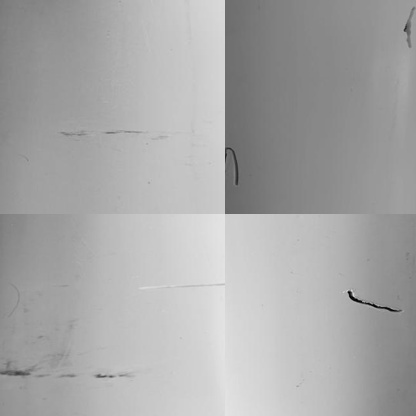fengxi: (348, 288, 400, 314), (222, 146, 242, 191)
